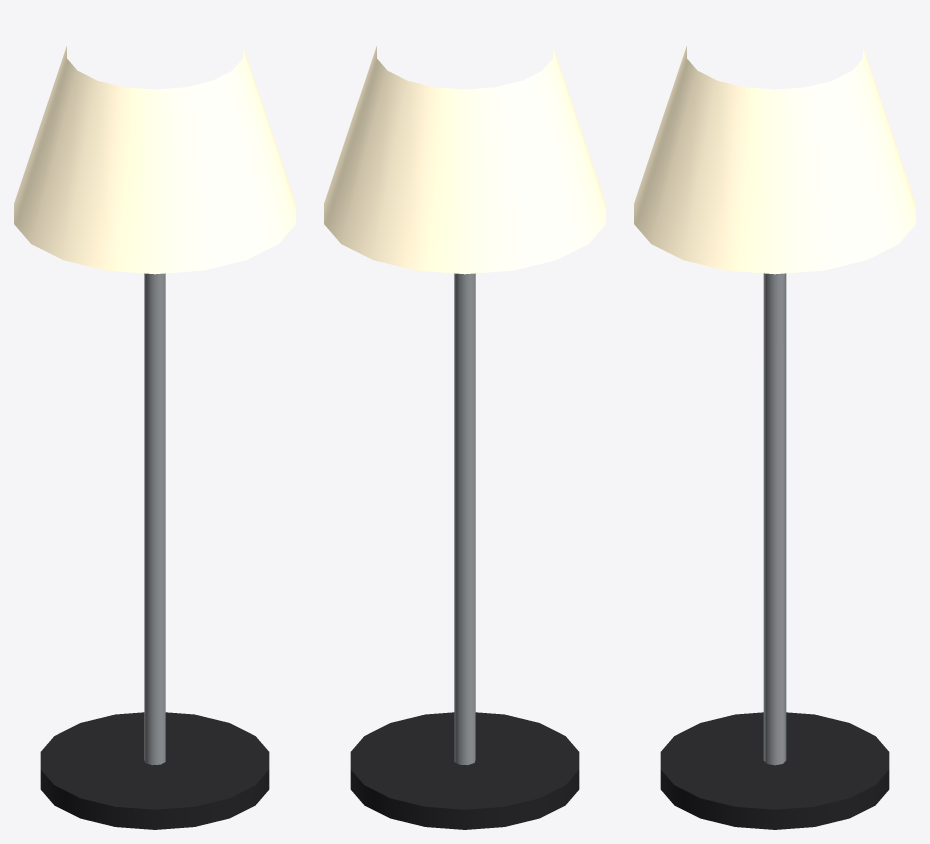
The model's file is lamp_floor.glb.
3 views of the same model, side by side, from view 1: azimuth 30°, elevation 25°; view 2: azimuth 150°, elevation 25°; view 3: azimuth 270°, elevation 25° (orthographic).
Parts seen in each view (by area): view 1: lamp_floor; view 2: lamp_floor; view 3: lamp_floor.
Boxes of the visible parts, <box> form: lamp_floor: <box>14,46,295,829</box>; lamp_floor: <box>324,46,605,829</box>; lamp_floor: <box>634,46,915,829</box>.
Bounding box in the file's own units: 0.64 × 1.8 × 0.6303.
